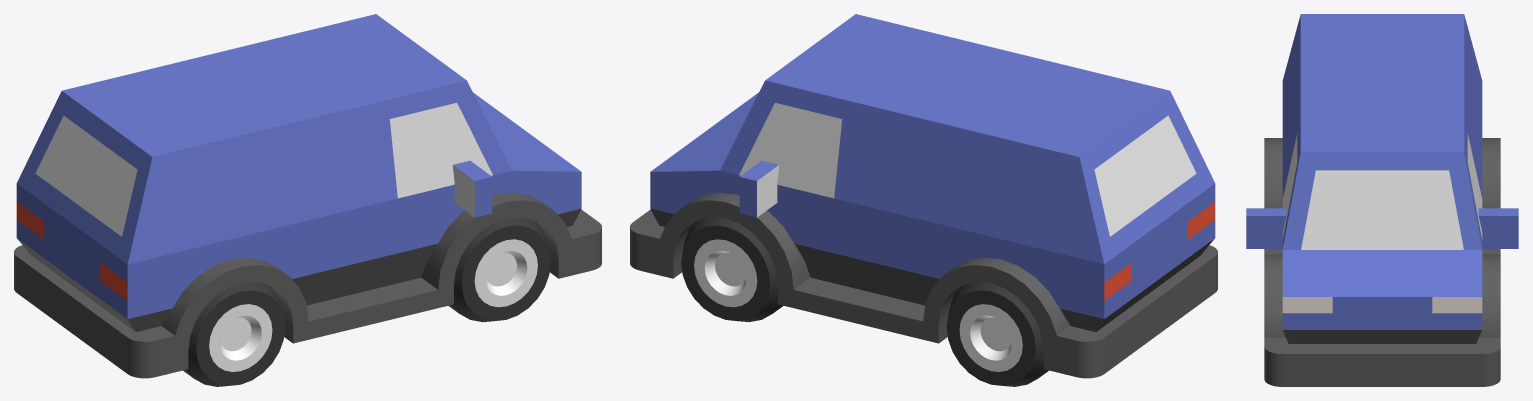
The model's file is van.dae.
3 views of the same model, side by side, from view 1: azimuth 30°, elevation 25°; view 2: azimuth 150°, elevation 25°; view 3: azimuth 270°, elevation 25° (orthographic). The views are drawn at different scales.
Parts seen in each view (by area): view 1: body, wheel_backLeft, wheel_frontLeft; view 2: body, wheel_backRight, wheel_frontRight; view 3: body.
Part boxes in pixels (box(x1,y1,x2,y2)): body: box(14, 14, 601, 378); wheel_backLeft: box(183, 282, 285, 386); wheel_frontLeft: box(448, 217, 550, 322); body: box(630, 14, 1217, 378); wheel_backRight: box(946, 282, 1048, 386); wheel_frontRight: box(681, 217, 783, 322); body: box(1246, 14, 1518, 386).
Size of the model in its own units: 2.03 by 0.975 by 1.12.
